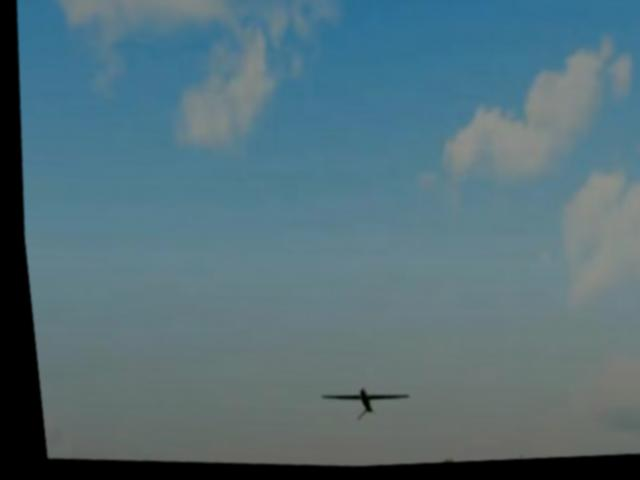iha: (306, 382, 414, 429)
